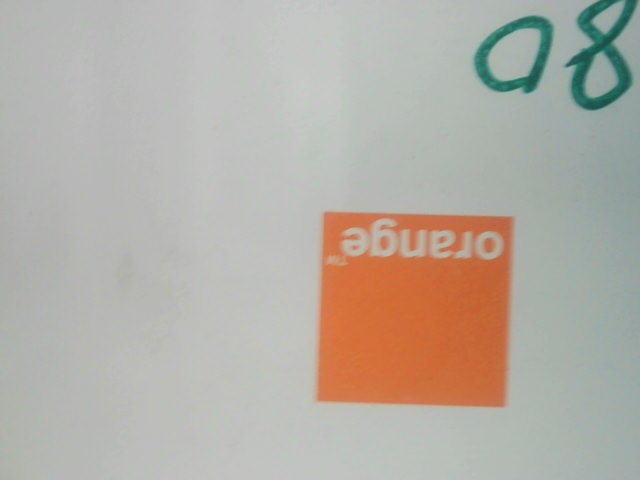AR_Orange: (301, 203, 518, 412)
